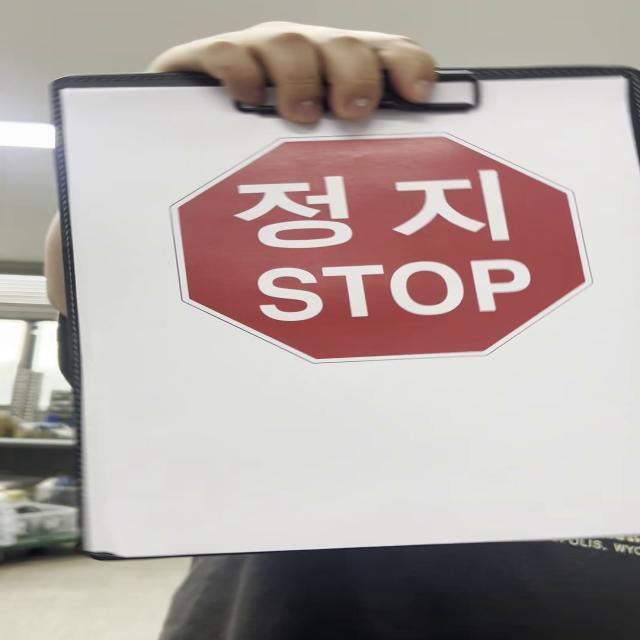stop: (167, 132, 596, 365)
